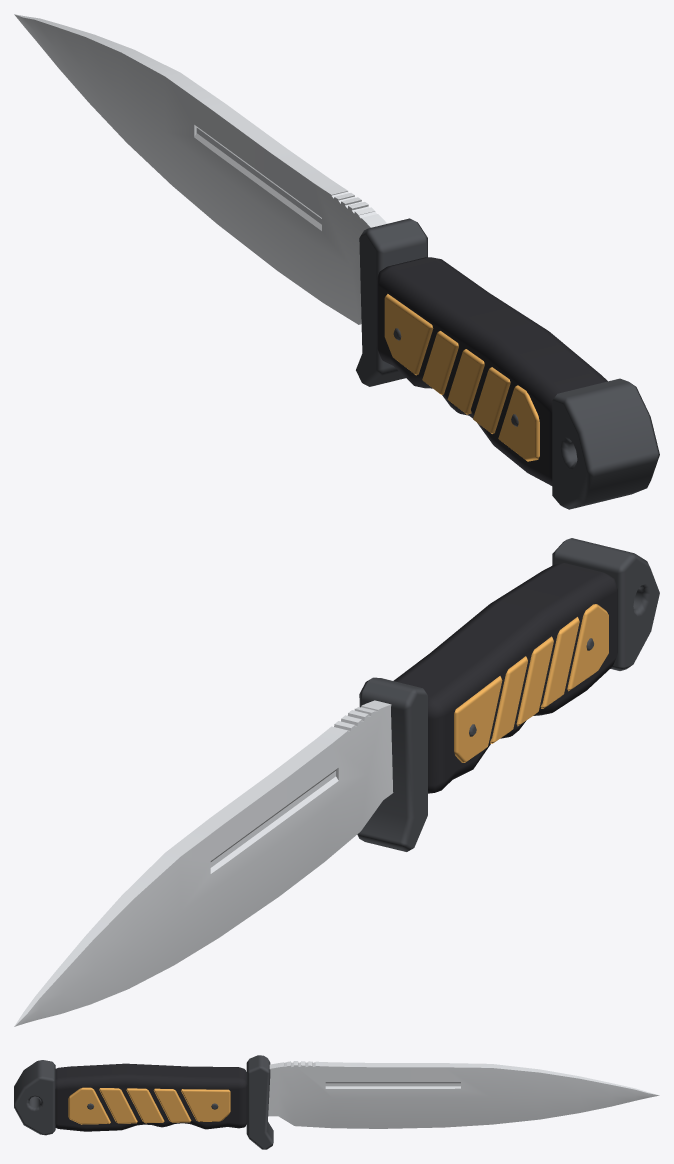
File: knife.glb
3 views of the same model, one above another, from view 1: azimuth 30°, elevation 25°; view 2: azimuth 150°, elevation 25°; view 3: azimuth 270°, elevation 25° (orthographic). The views are drawn at different scales.
Visible parts, largest first — view 1: blade, khandle, kpommel, kinlay, kguard; view 2: blade, khandle, kinlay, kguard, kpommel; view 3: blade, khandle, kinlay, kpommel, kguard.
Boxes of the visible parts, x1=… form: blade: x1=14, y1=14, x2=387, y2=324; khandle: x1=376, y1=257, x2=607, y2=485; kpommel: x1=552, y1=378, x2=659, y2=509; kinlay: x1=384, y1=294, x2=539, y2=461; kguard: x1=356, y1=218, x2=427, y2=386; blade: x1=14, y1=700, x2=393, y2=1026; khandle: x1=393, y1=563, x2=617, y2=793; kinlay: x1=454, y1=604, x2=608, y2=762; kguard: x1=357, y1=677, x2=427, y2=851; kpommel: x1=552, y1=538, x2=659, y2=670; blade: x1=268, y1=1061, x2=659, y2=1128; khandle: x1=55, y1=1063, x2=247, y2=1131; kinlay: x1=68, y1=1087, x2=230, y2=1124; kpommel: x1=14, y1=1060, x2=55, y2=1135; kguard: x1=246, y1=1055, x2=273, y2=1149.
Size of the model in its own units: 0.0305 by 0.058 by 0.4056.
